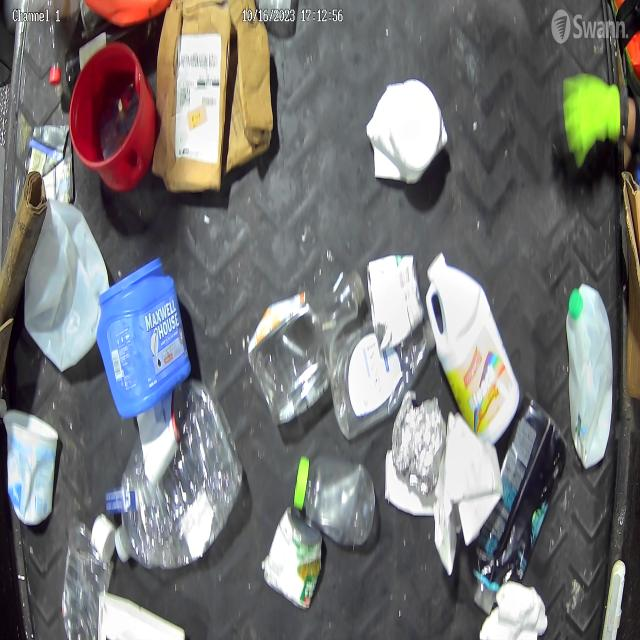can: (264, 504, 338, 615)
milk_jug: (423, 251, 521, 438), (19, 193, 109, 371), (561, 280, 619, 468)
non_white_jug: (94, 256, 199, 408)
plastic_bottle: (52, 516, 109, 636)
